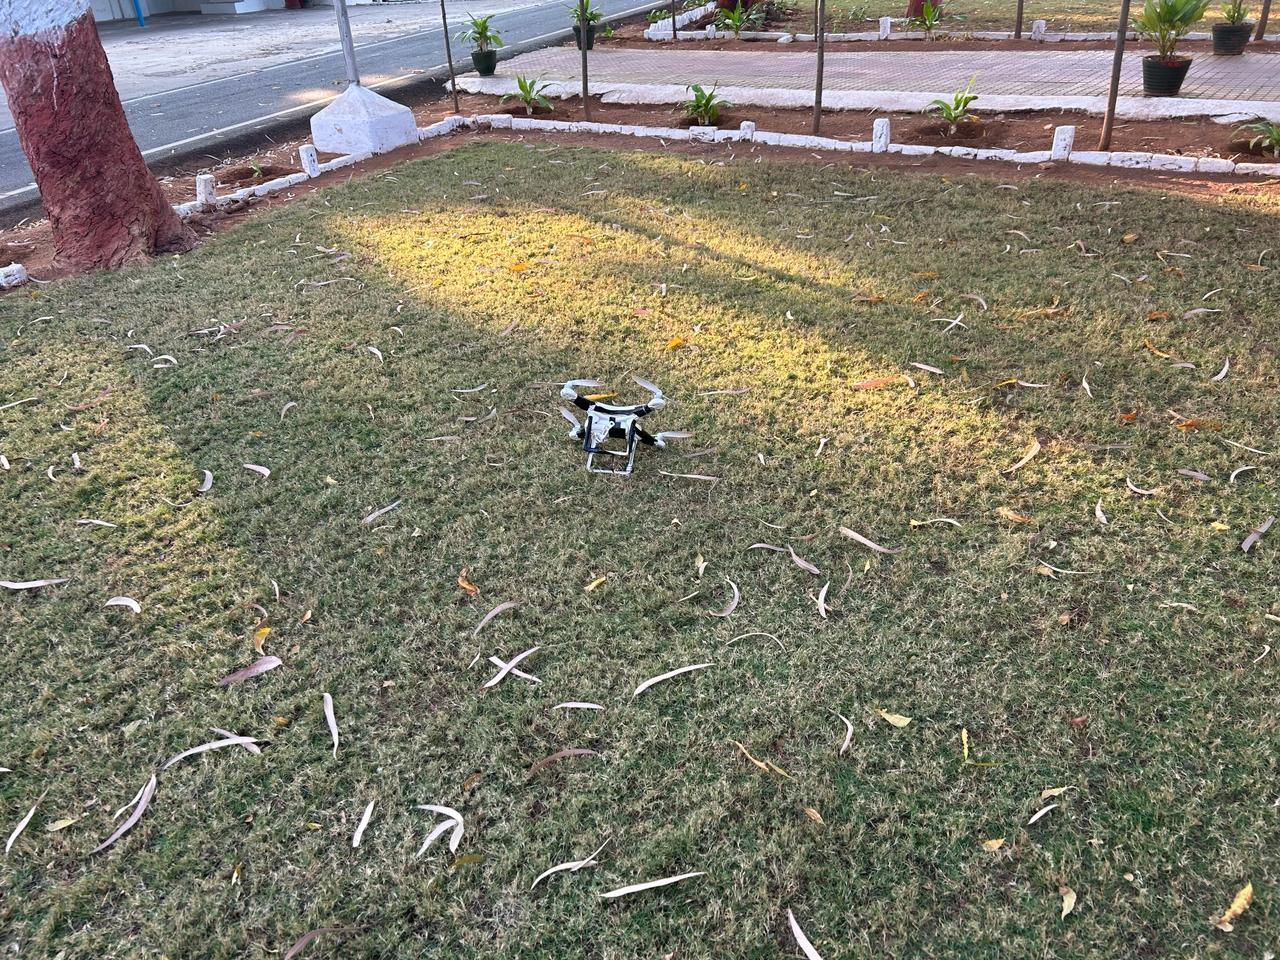drone: (532, 343, 715, 529)
